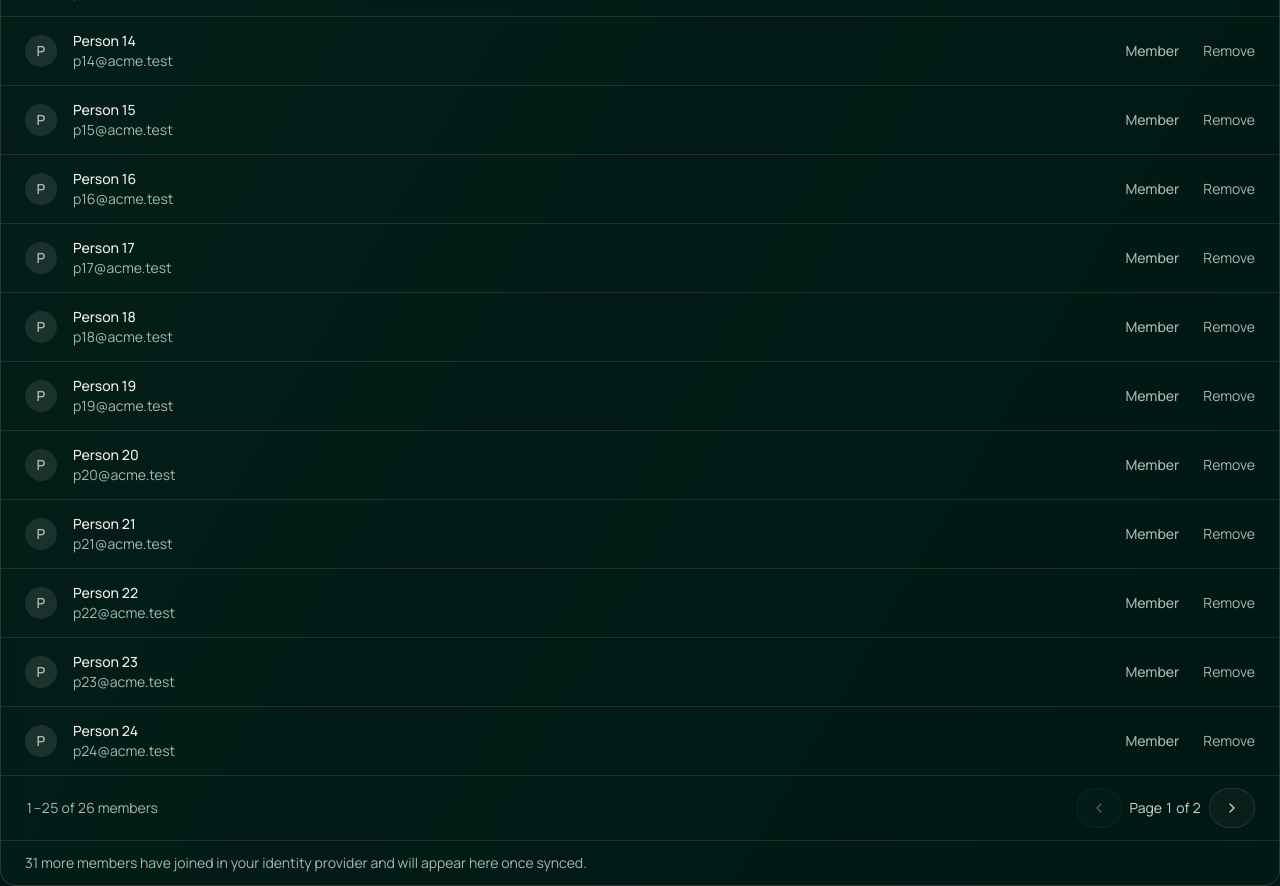
Test: Members list › offers the way back when a removal empties the last page
(page scrolled)
Click the button named "Next page".
click(1232, 808)  # box x1=1209 y1=788 x2=1255 y2=828
(page scrolled)
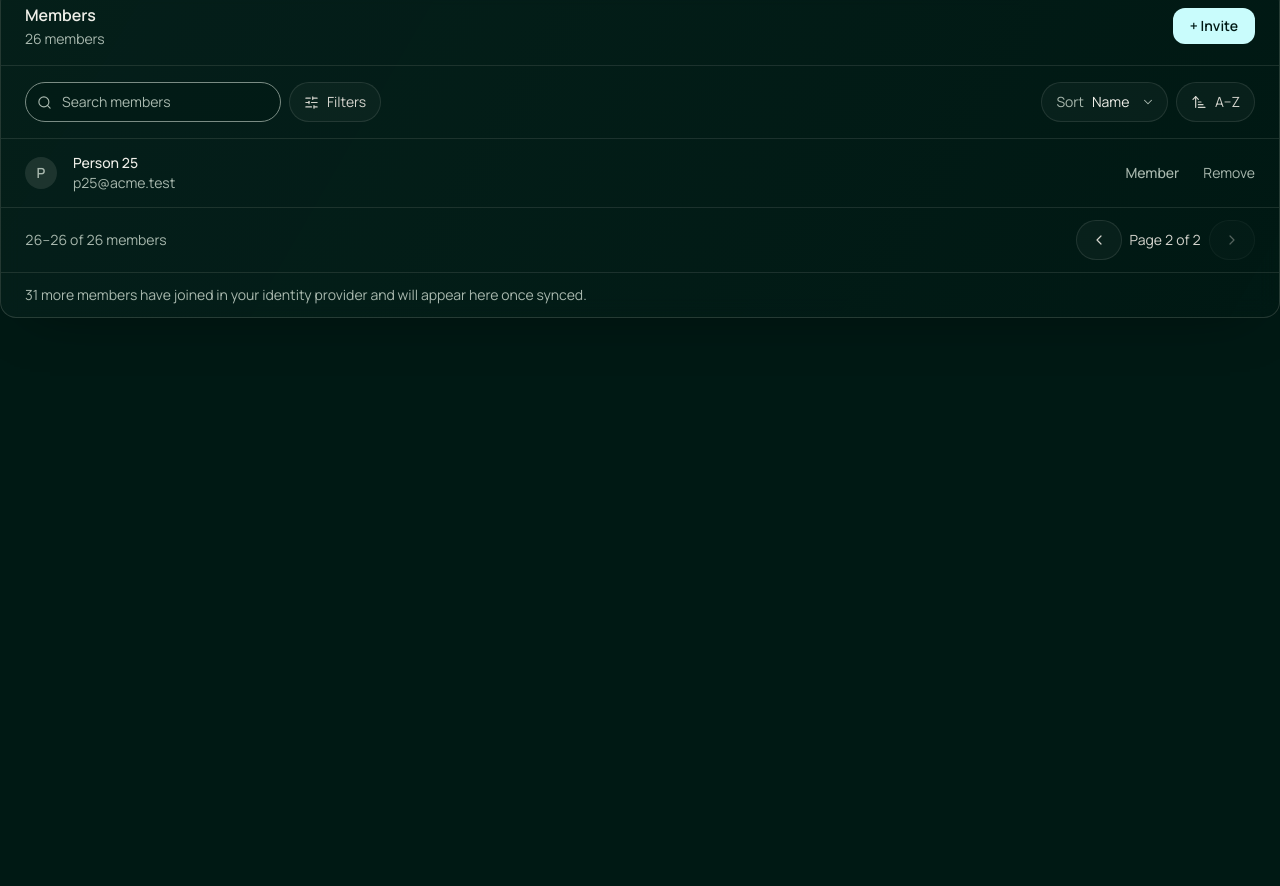
Click the button with aria-label "Remove Person 25".
click(1229, 173)  # box x1=1203 y1=163 x2=1255 y2=183
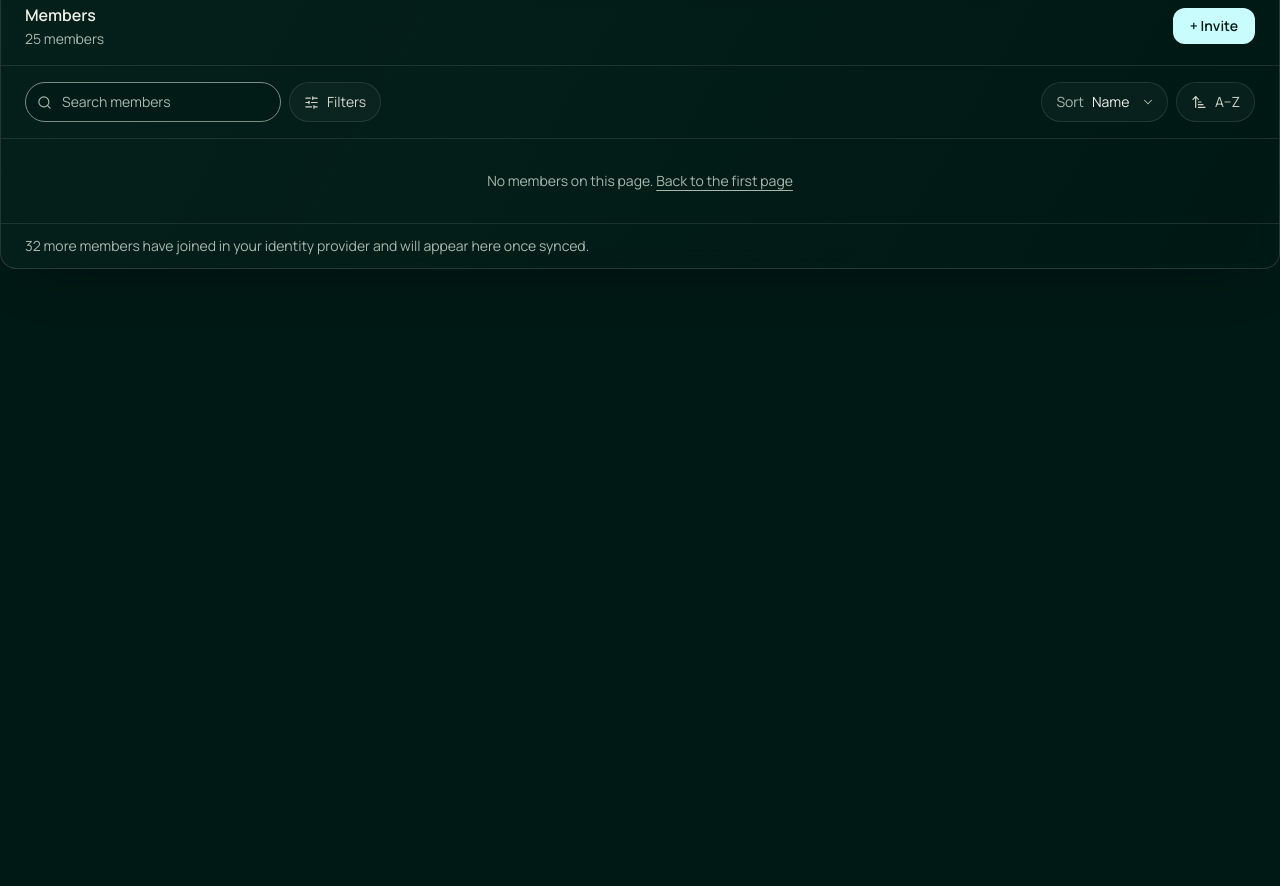
Expected: the text "No members on this page. Back to the first page" is shown, x1=487 y1=171 x2=793 y2=191
Click the button "Back to the first page".
click(725, 181)  # box x1=656 y1=171 x2=793 y2=191
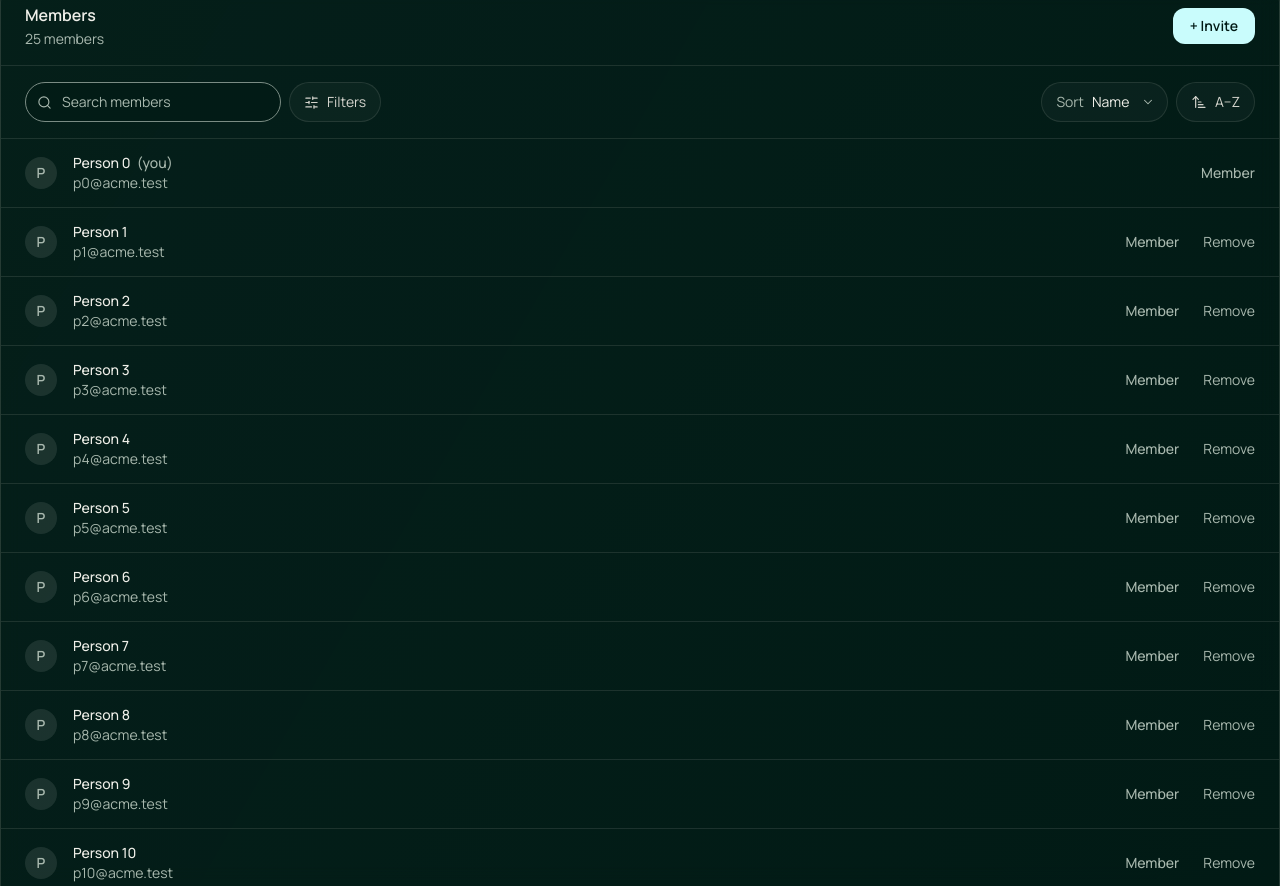
Expected: the text "Person 1" is shown, x1=73 y1=222 x2=128 y2=241
